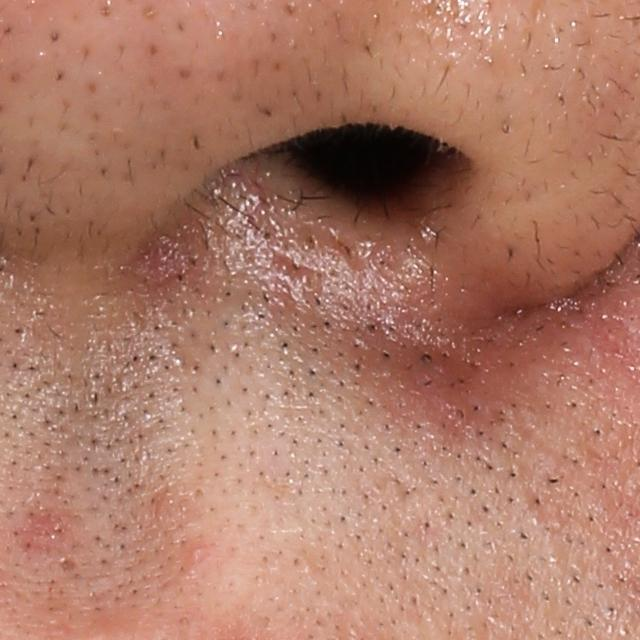comedo: (187, 544, 207, 565)
